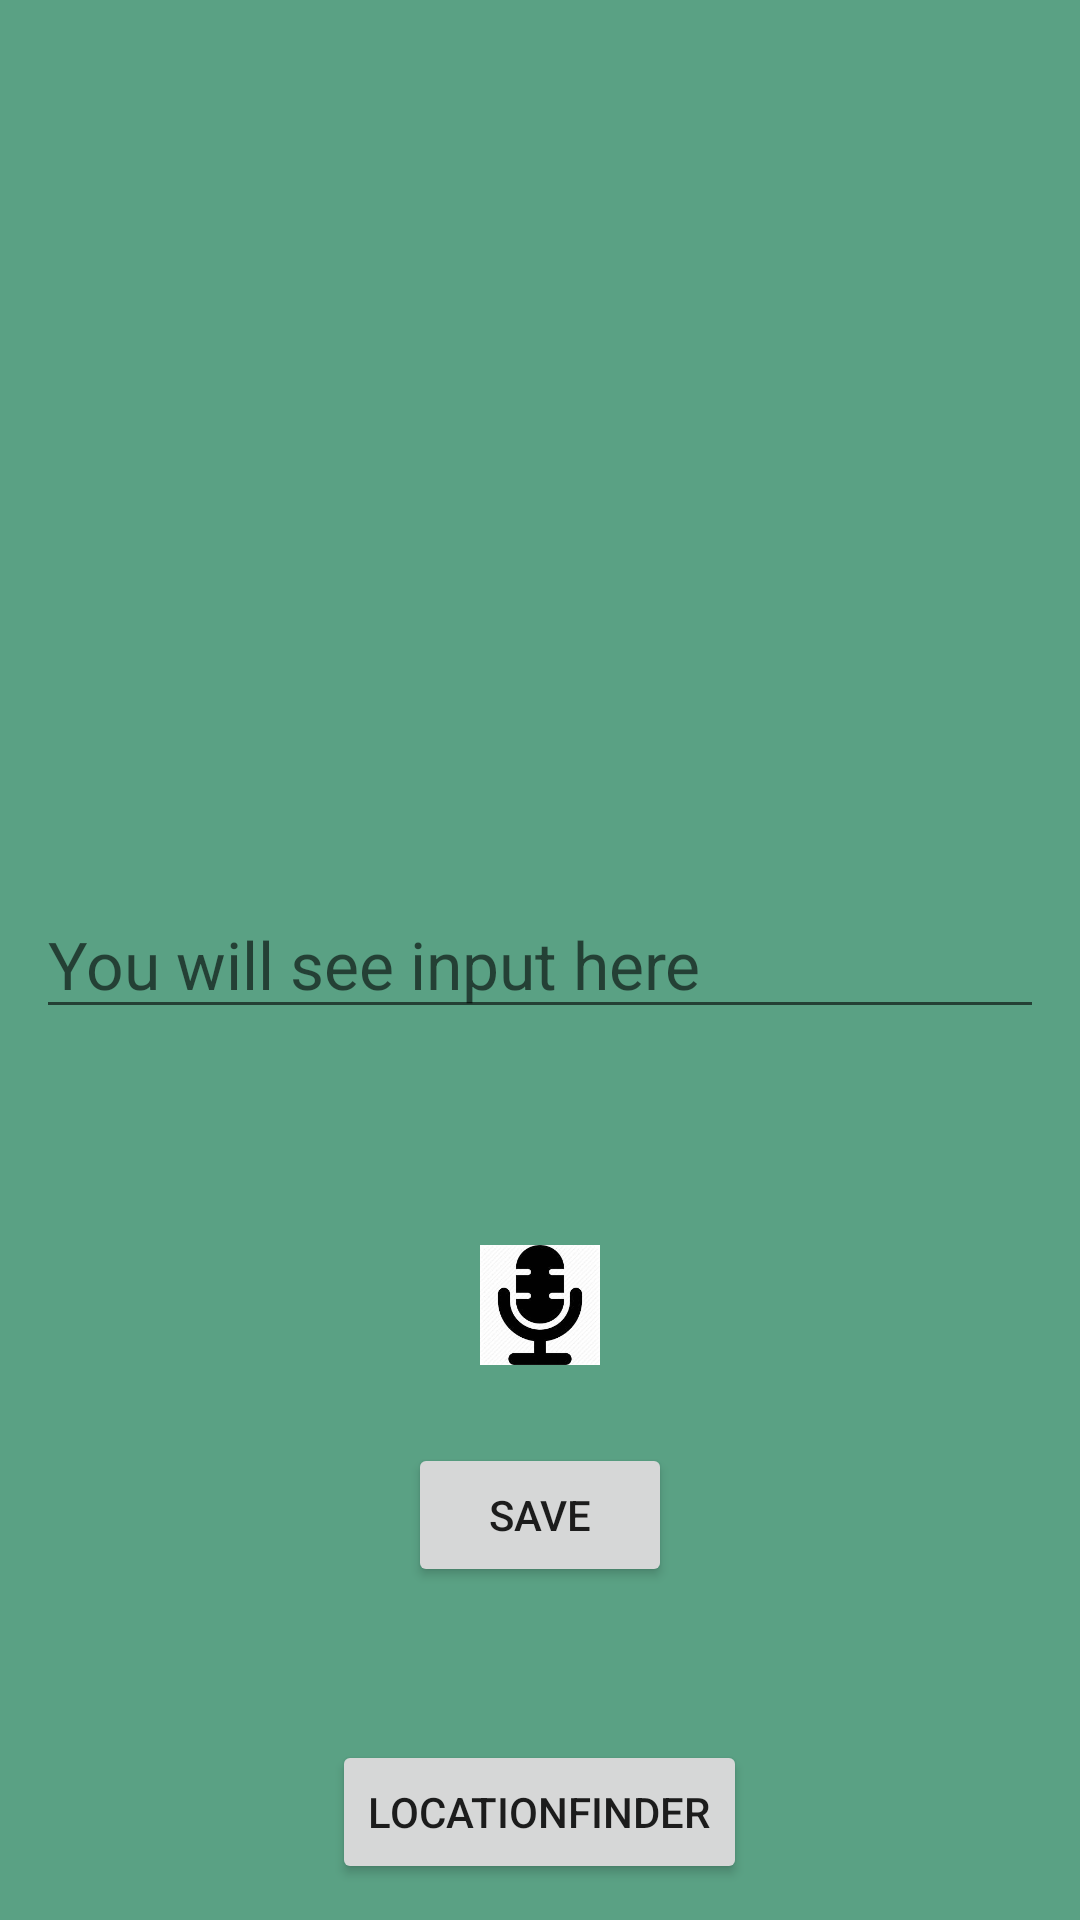

Where icons sit on this 1080px x 1920px app screen, as {"left": x1, "top": y1, "right": x2, "bottom": y2}:
record: {"left": 480, "top": 1245, "right": 600, "bottom": 1365}
